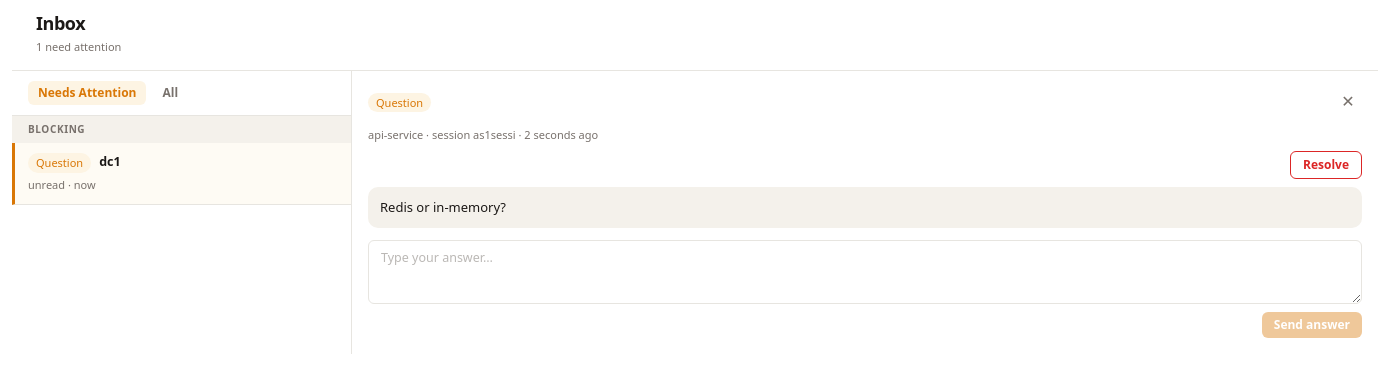
Test: Inbox intervention actions › answers a question and shows the awaiting note after 202
Check: the text "Redis or in-memory?" is shown, box left=368, top=187, right=1362, bottom=228
Type "Use Redis" into the text box with placeholder "Type your answer…" at (865, 272), box left=368, top=240, right=1362, bottom=304
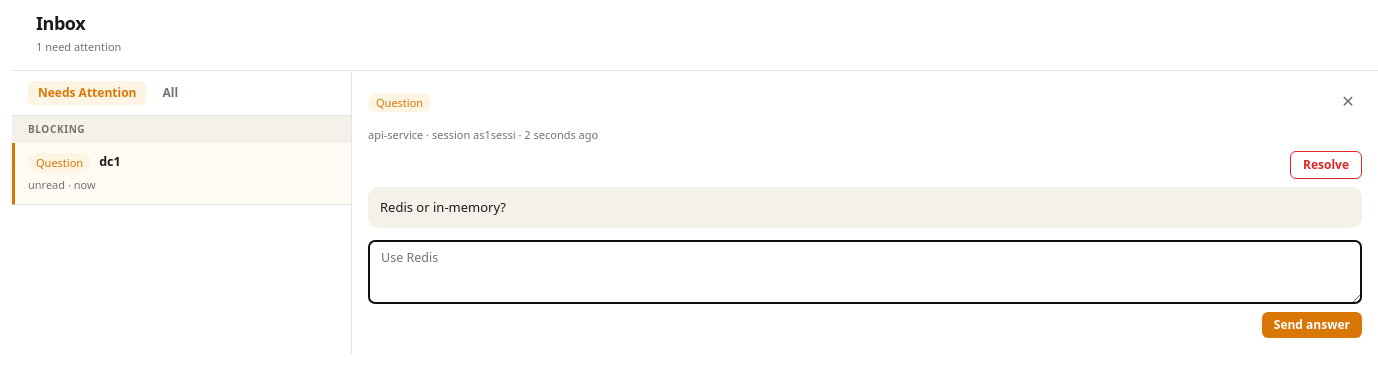
Click the button "Send answer" at (1312, 325), box left=1262, top=312, right=1362, bottom=338
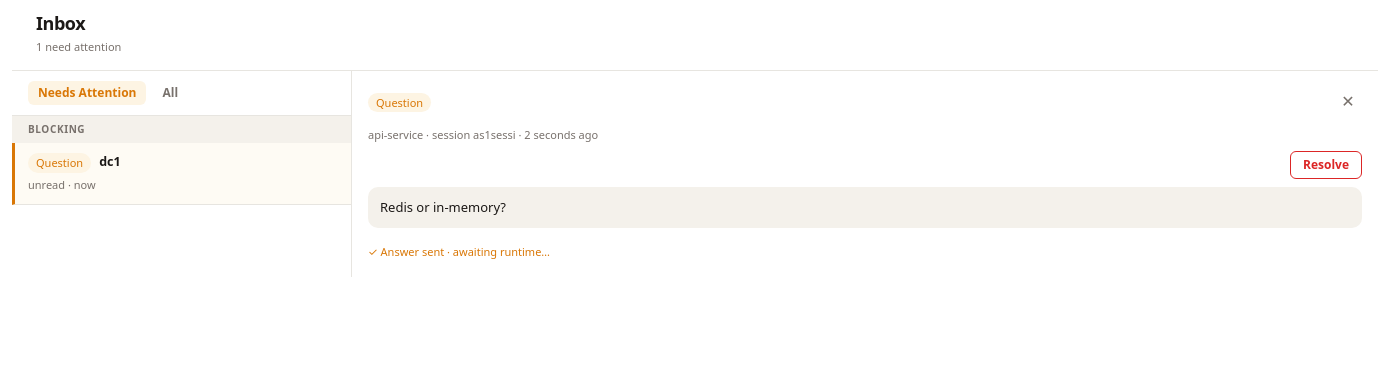
Check: the text "✓ Answer sent · awaiting runtime…" is shown, box left=368, top=244, right=550, bottom=259
